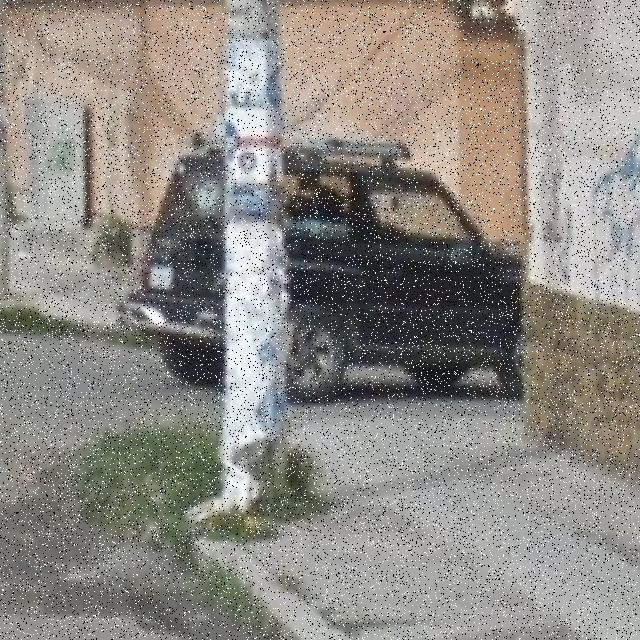cars: (119, 136, 536, 405)
